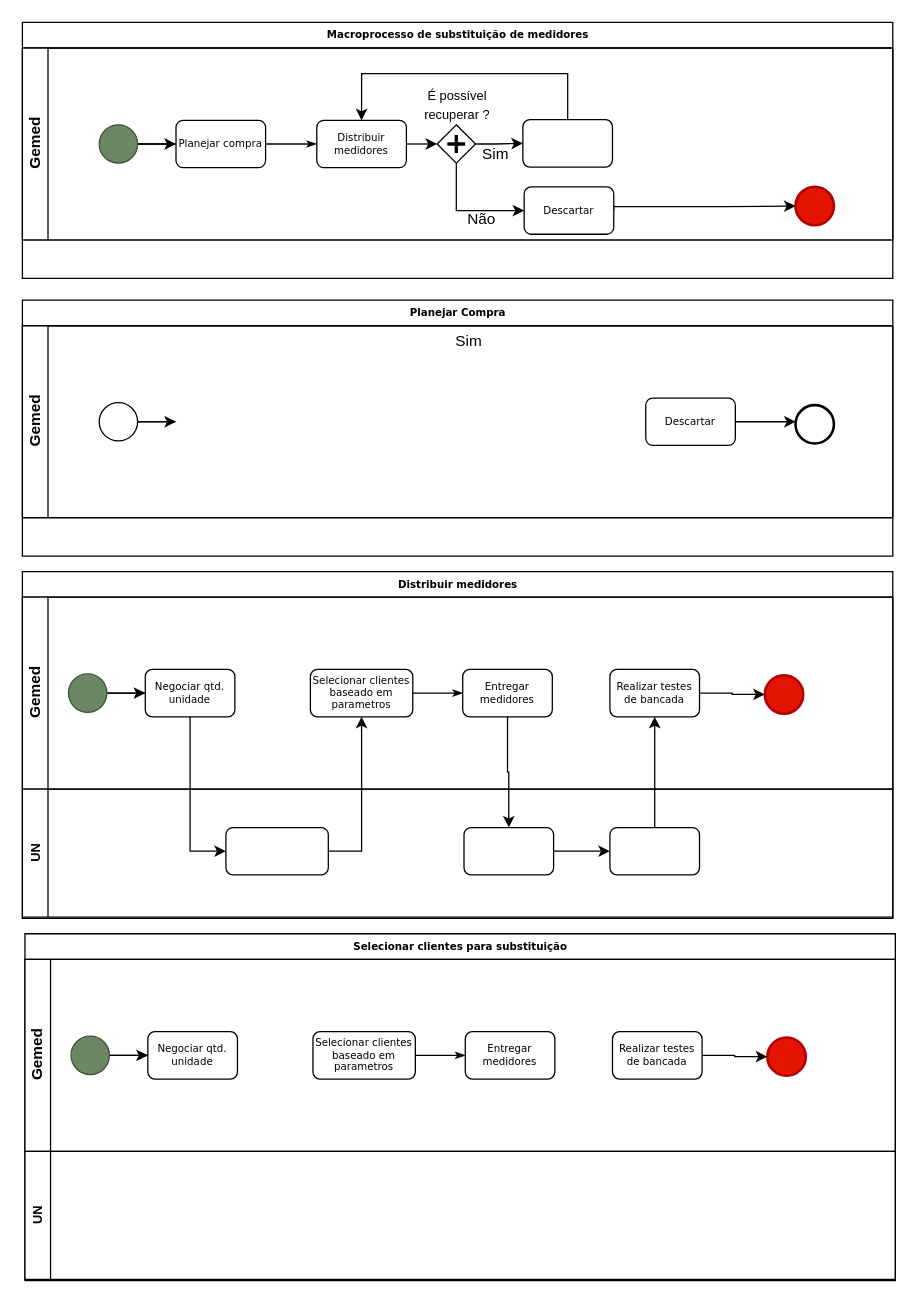
This 918x1303 diagram has some shape labels left out. The box of each missing label's shape, as (x1, y1, x2, y2) in pixels:
Devolver medidores substituídos: (609, 826, 700, 875)
Recondicionar medidores: (522, 118, 612, 167)
Selecionar setor: (225, 826, 328, 875)
Substituir medidores: (463, 826, 554, 875)
